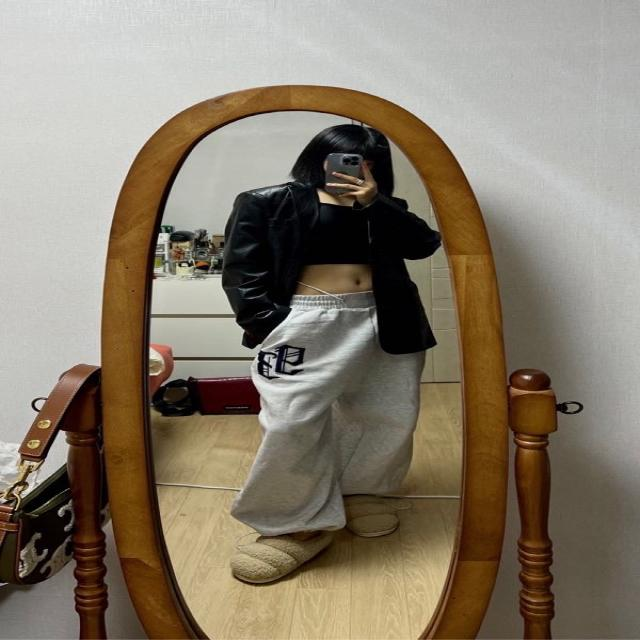blazer: (222, 180, 444, 356)
trainingpants: (231, 291, 423, 537)
